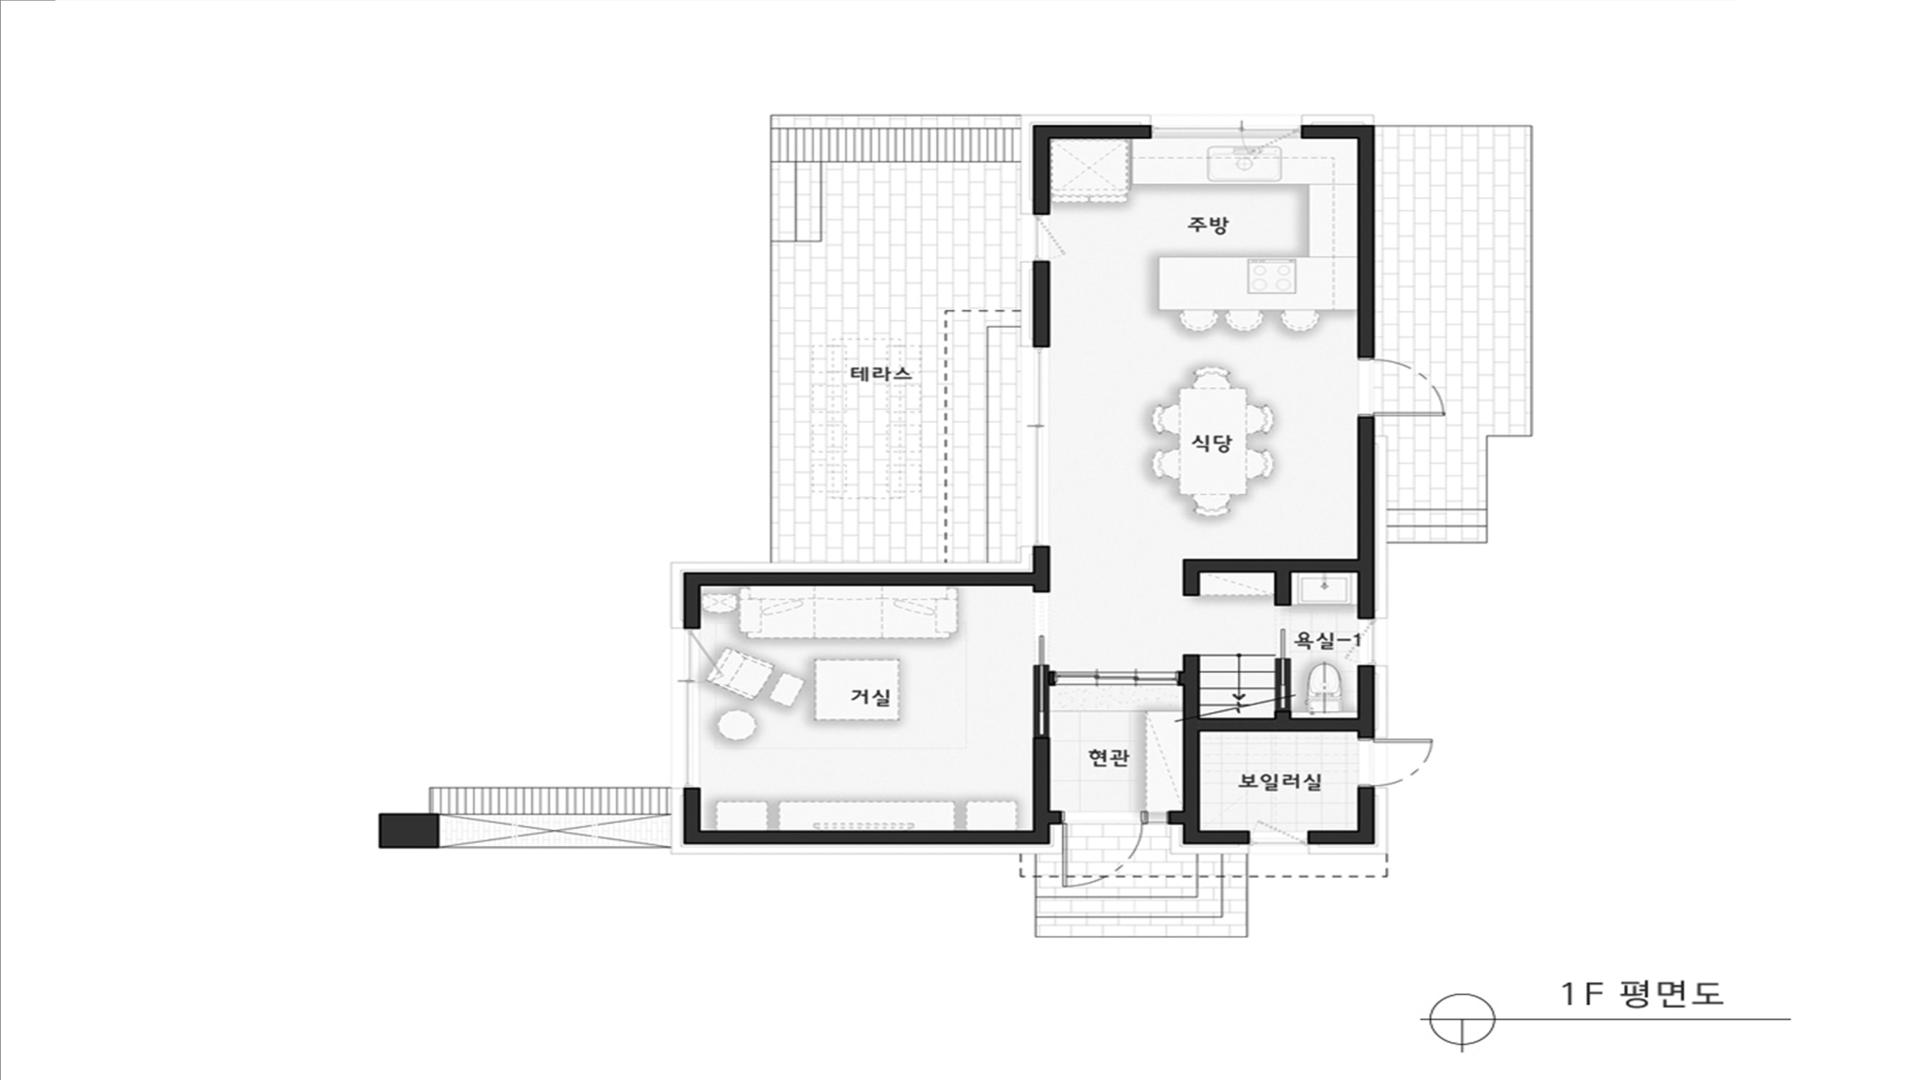background: (0, 0, 1920, 1080)
door: (1062, 811, 1168, 887), (1358, 356, 1445, 417), (1358, 738, 1432, 786), (1033, 592, 1050, 738), (1274, 605, 1291, 711), (1050, 673, 1179, 686)
wall: (1168, 654, 1200, 831), (700, 572, 1035, 587), (700, 831, 1050, 844), (1358, 138, 1375, 356), (1358, 417, 1375, 618), (1200, 712, 1358, 731), (1033, 738, 1060, 831), (1200, 558, 1358, 572), (1033, 262, 1051, 347), (1034, 125, 1151, 138), (1357, 665, 1375, 737), (1033, 138, 1050, 215), (683, 572, 702, 629), (683, 787, 700, 844), (1302, 125, 1374, 138), (1308, 831, 1375, 844), (1183, 831, 1250, 844), (1034, 546, 1051, 592), (1357, 787, 1374, 831), (1183, 558, 1200, 596), (1274, 572, 1291, 607)
window: (1034, 347, 1048, 547), (683, 629, 700, 787), (1151, 125, 1300, 138), (1033, 215, 1067, 262), (1345, 618, 1375, 666), (1250, 820, 1309, 844)
